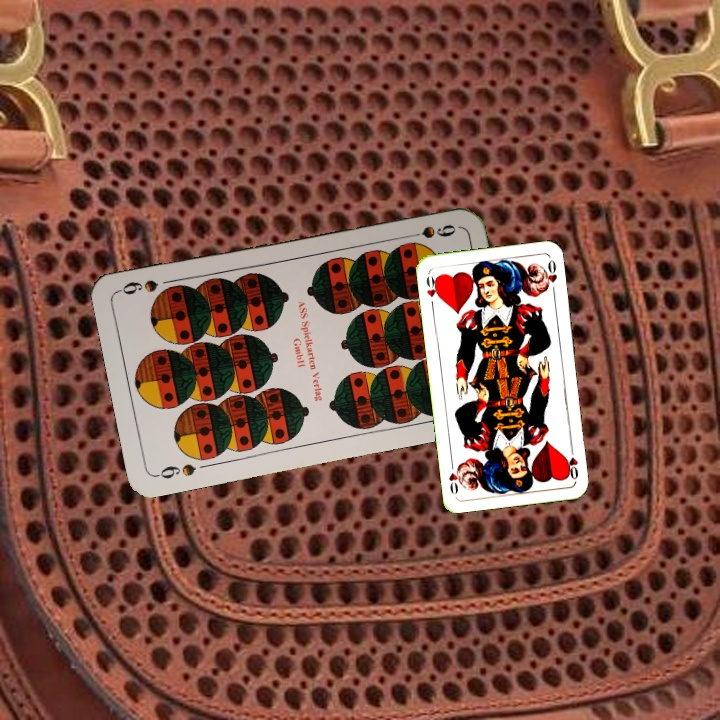HO: (422, 272, 442, 310), (563, 442, 581, 482)
S9: (400, 220, 459, 241), (152, 459, 199, 481)
